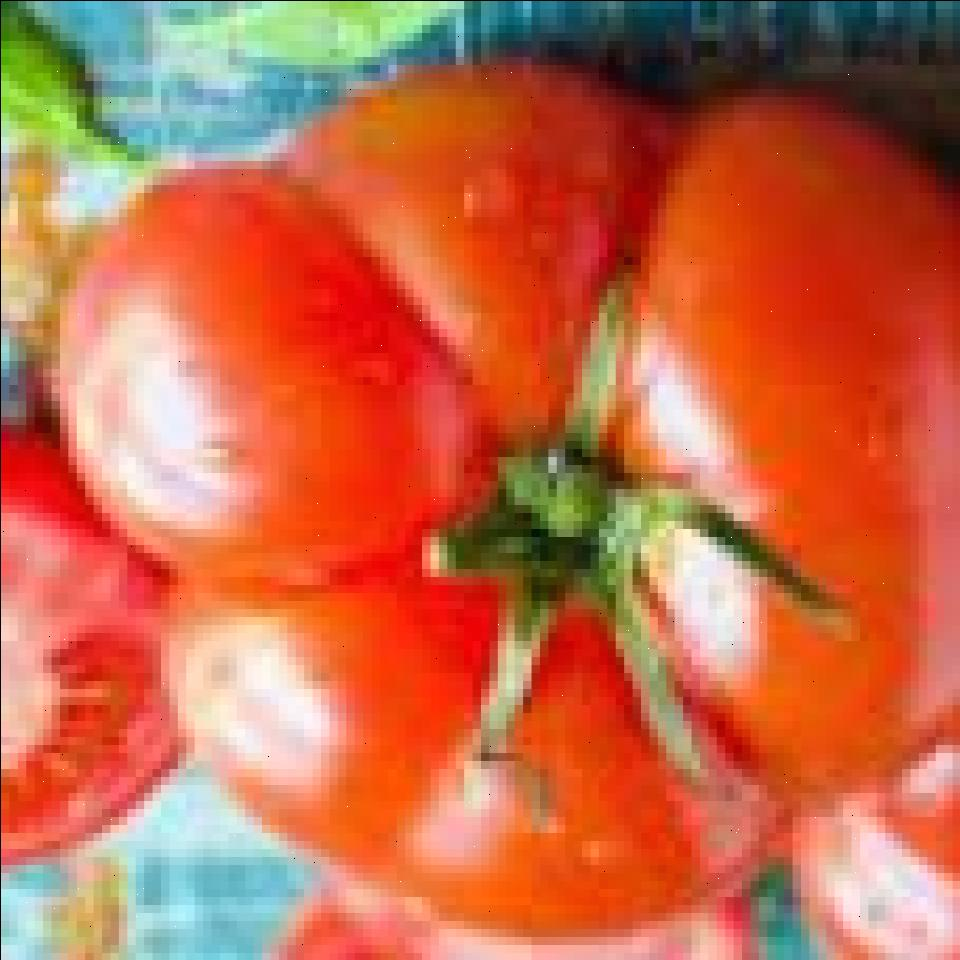Healthy: (126, 64, 960, 928)
